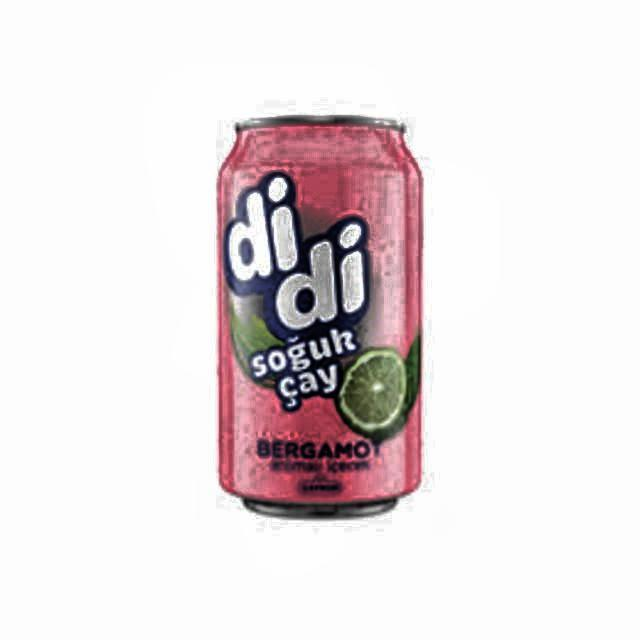metal: (215, 116, 426, 522)
